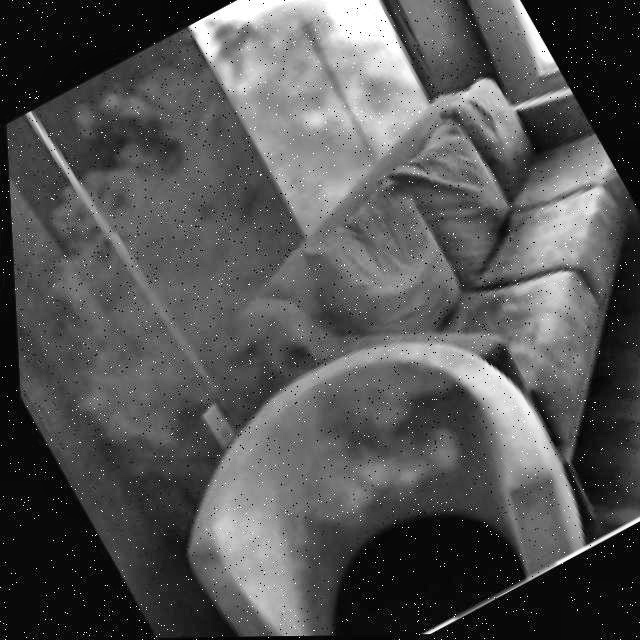Smoke: (5, 0, 640, 638)
